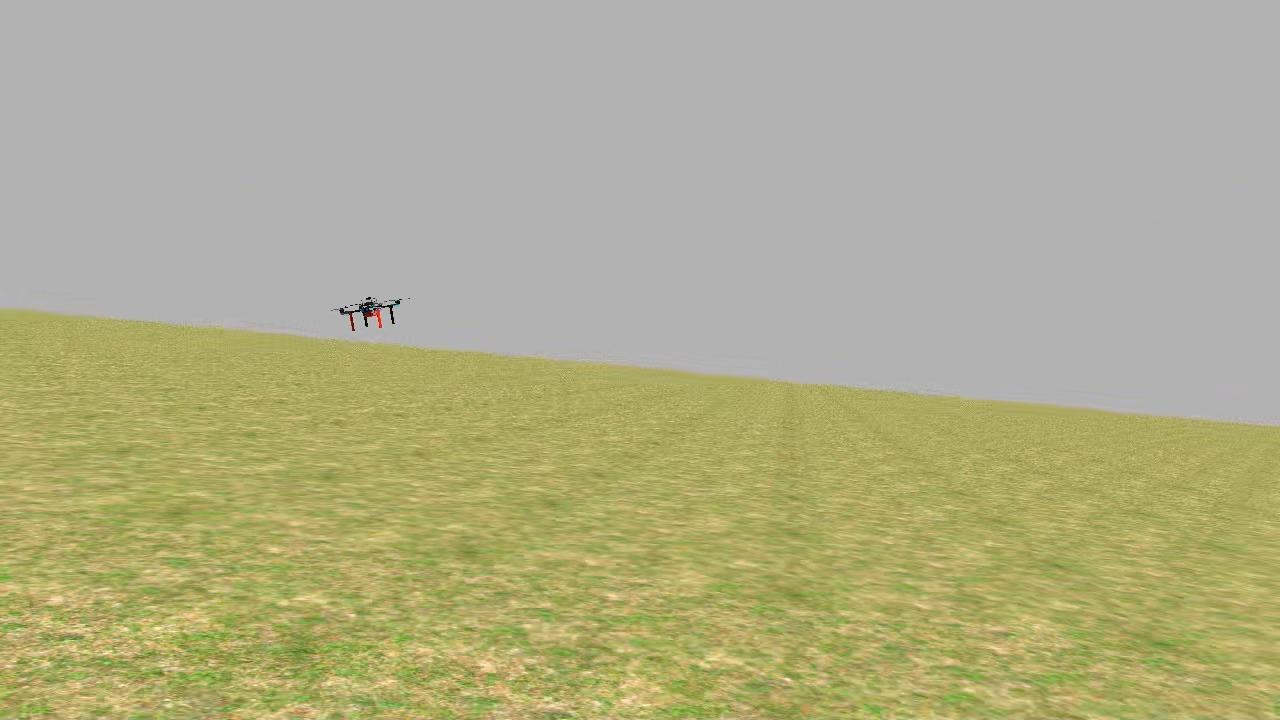UAV: (337, 288, 406, 342)
